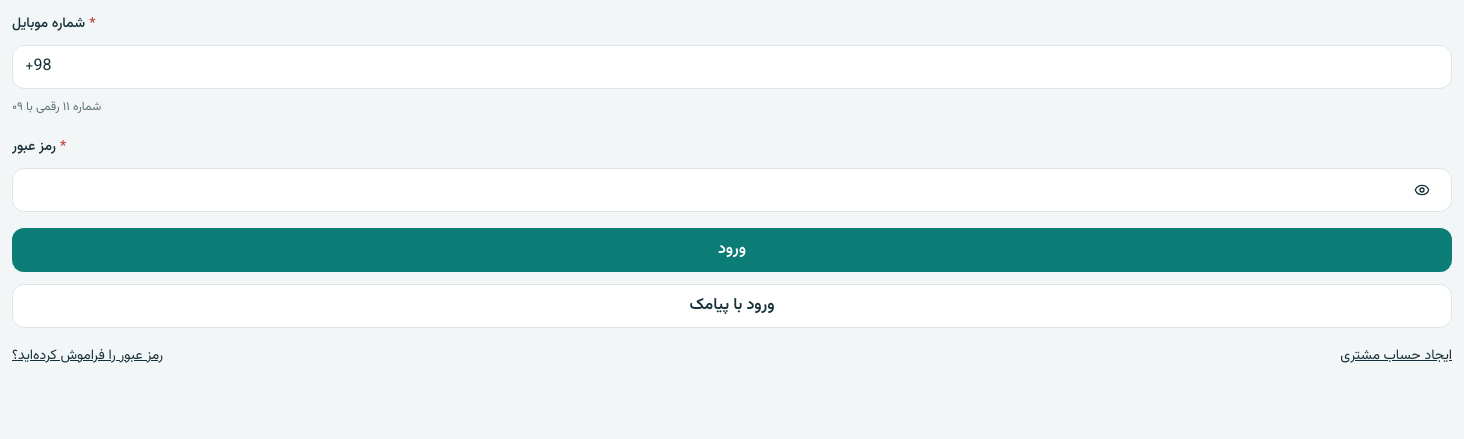
Scenario: customer login › validates phone and password before submit
The image size is (1464, 439).
Click the button "ورود".
click(732, 250)  # box [12,228,1452,272]
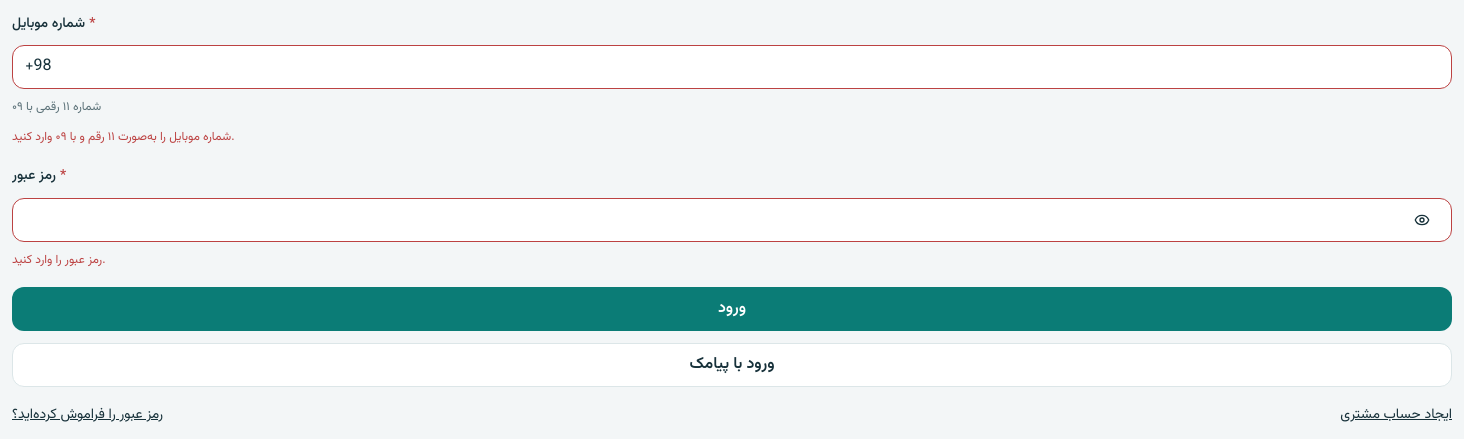
Expected: the text "شماره موبایل را به‌صورت ۱۱ رقم و با ۰۹ وارد کنید." is shown, [12,128,234,146]
